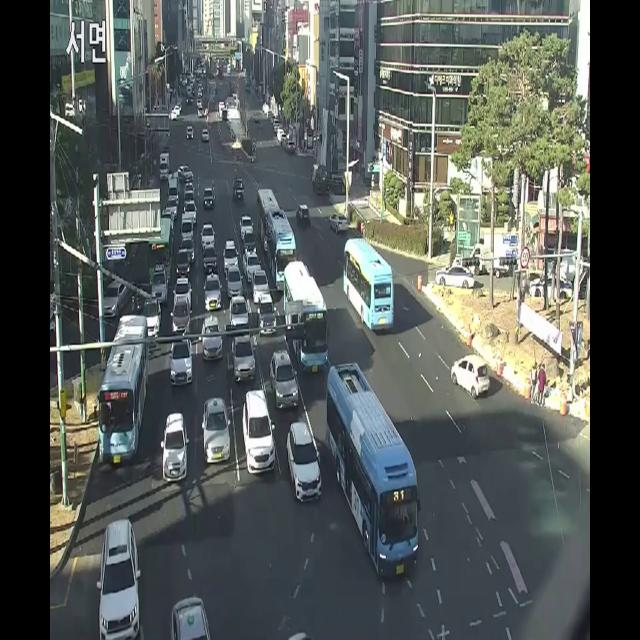car: (328, 361, 420, 588), (94, 314, 149, 467), (284, 258, 330, 375), (343, 234, 396, 334), (266, 202, 295, 292)
motorcycle: (95, 518, 141, 640), (286, 420, 323, 507), (242, 387, 278, 476), (201, 392, 233, 466), (160, 410, 188, 486), (450, 350, 491, 401), (272, 347, 300, 412), (168, 334, 195, 390), (229, 327, 256, 382), (200, 313, 224, 366), (256, 292, 278, 338), (141, 294, 163, 340), (203, 270, 223, 314), (172, 290, 192, 332), (329, 206, 350, 234)
